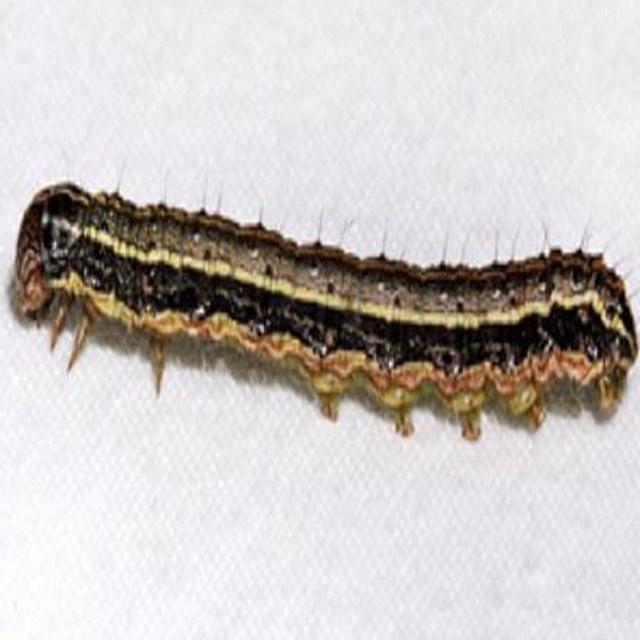gusano_cogollero: (0, 178, 640, 454)
